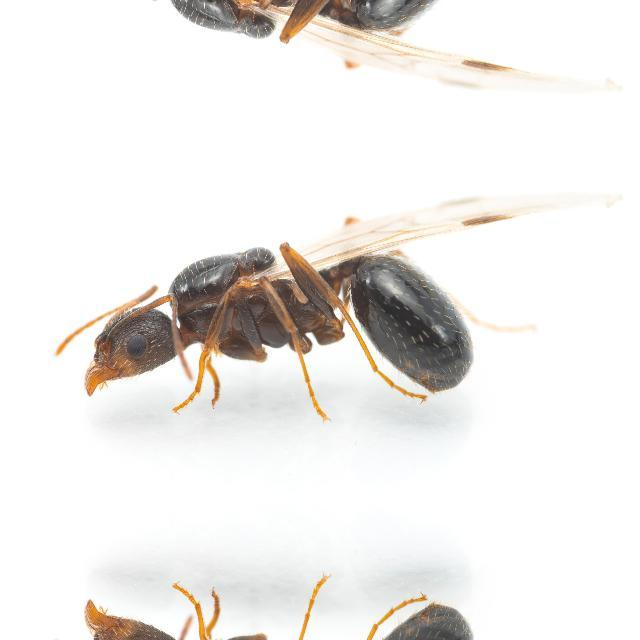Apheanogaster: (19, 202, 572, 432), (18, 0, 570, 82), (18, 562, 570, 640)
